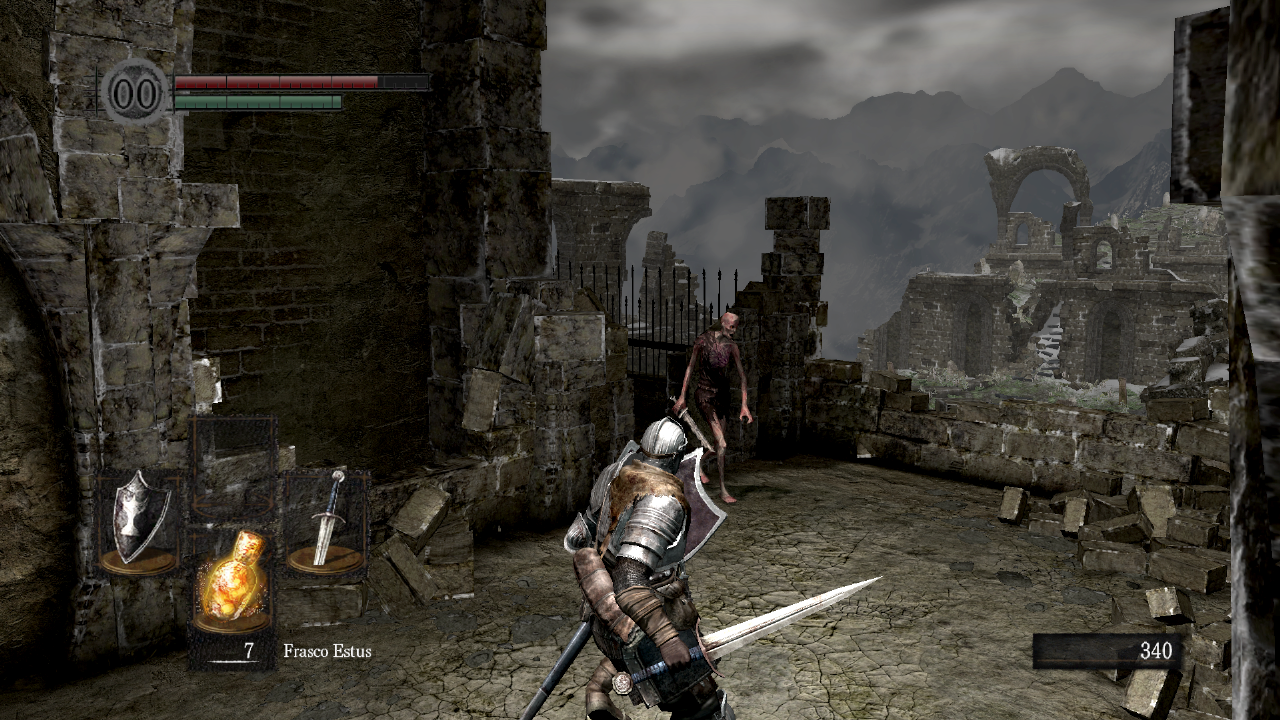hollow: (670, 312, 754, 504)
player: (521, 416, 885, 720)
